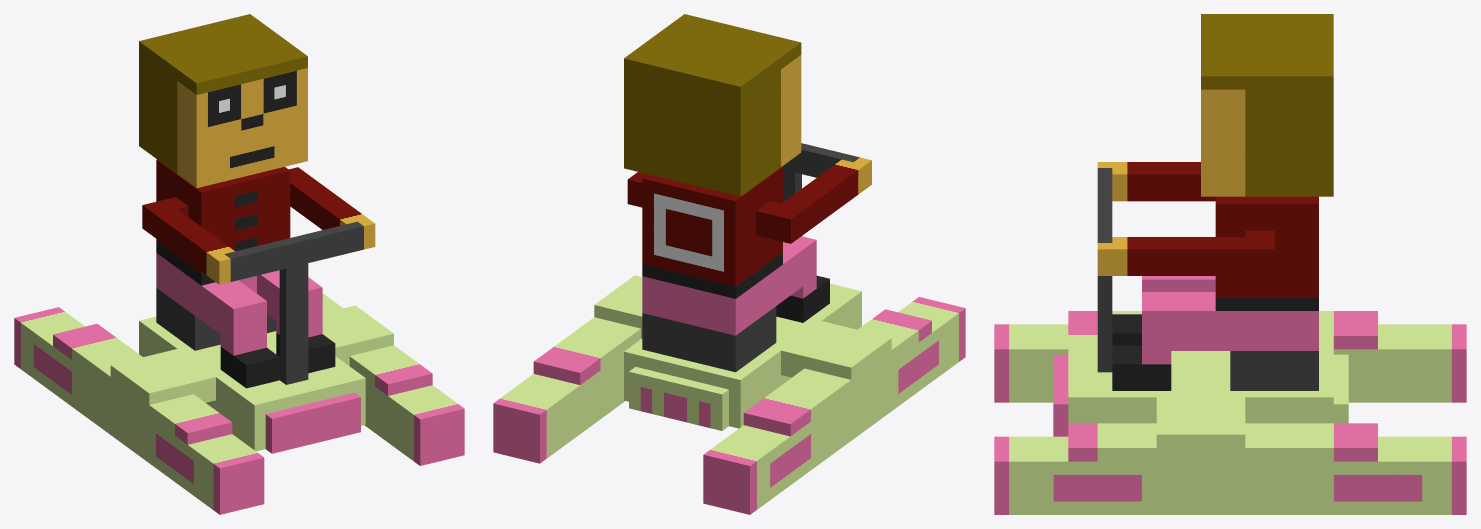
Rendered from Character_17.fbx.
3 renders of one model, left to right at view 1: azimuth 30°, elevation 25°; view 2: azimuth 150°, elevation 25°; view 3: azimuth 270°, elevation 25°, orthographic. The views are drawn at different scales.
Parts seen in each view (by area): view 1: Character_17; view 2: Character_17; view 3: Character_17.
Boxes of the visible parts, x1,y1,x2,y2 form: Character_17: (14, 14, 464, 514); Character_17: (493, 14, 965, 514); Character_17: (994, 14, 1466, 514).
Bounding box in the file's own units: 22 × 30 × 32.
1 material, 1 textured.
